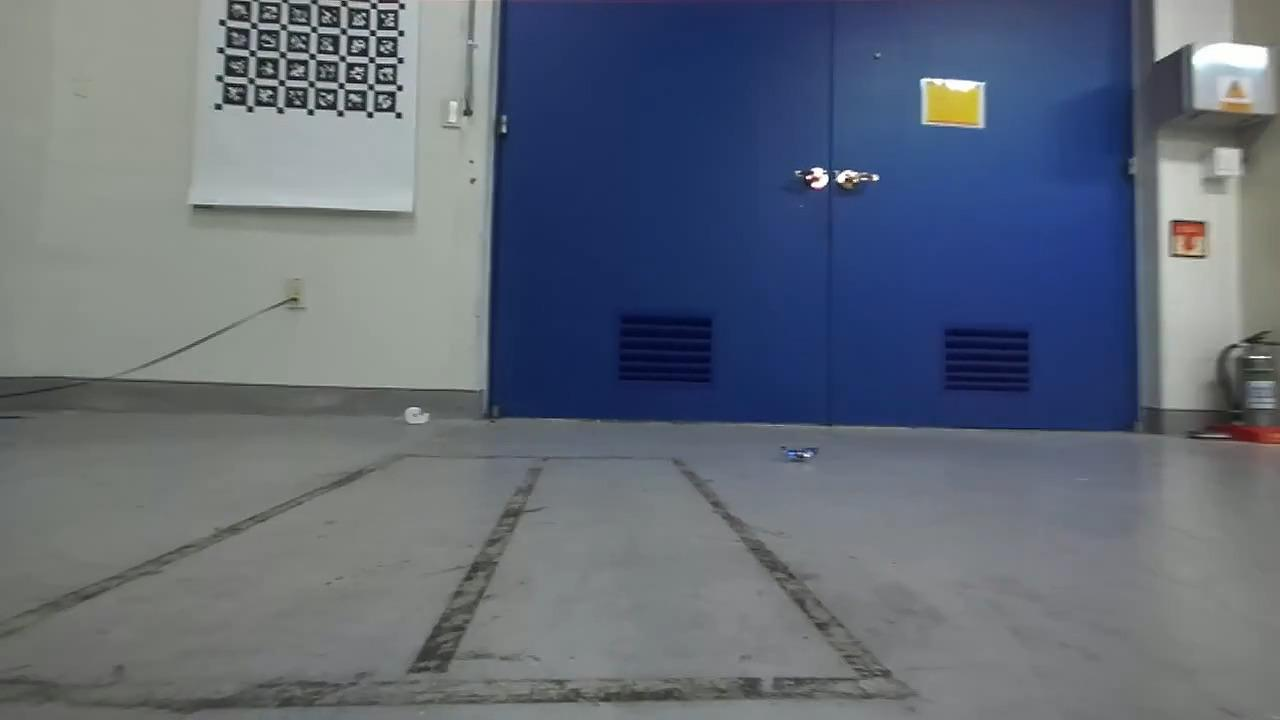crazyflie: (779, 440, 824, 470)
